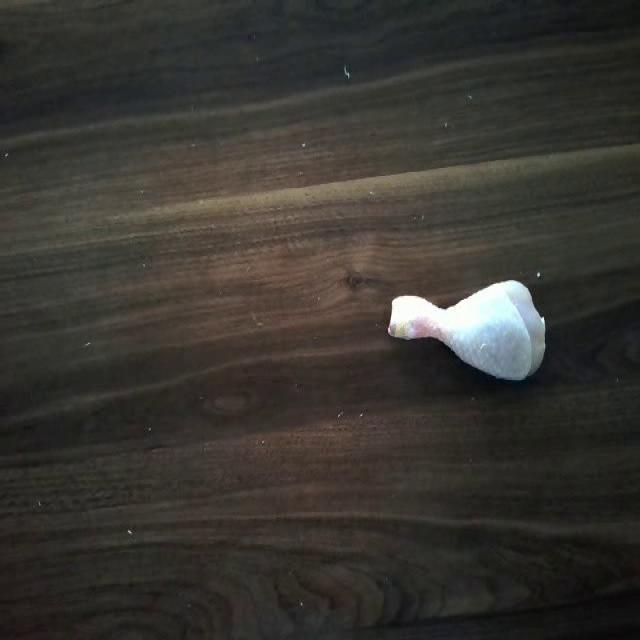leg: (383, 272, 557, 398)
